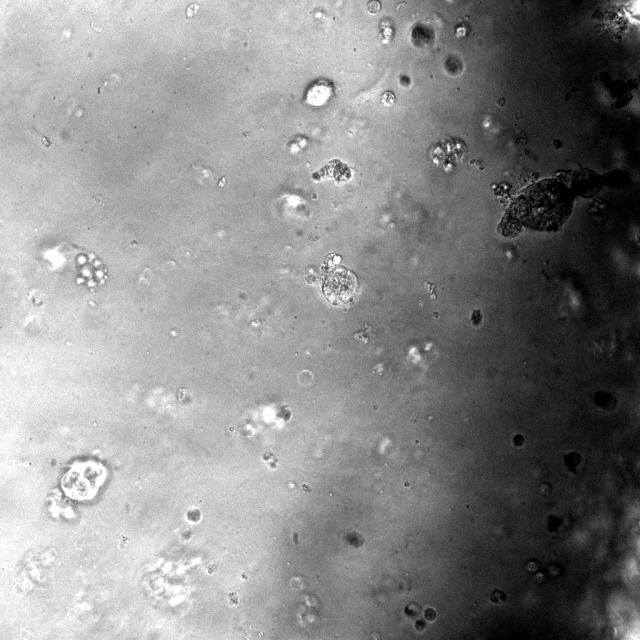organoid: (494, 168, 602, 237), (48, 457, 107, 519), (304, 252, 358, 307), (431, 137, 466, 172), (75, 252, 108, 289), (402, 600, 437, 632), (311, 158, 352, 185), (305, 78, 335, 107), (409, 21, 436, 49), (444, 53, 464, 76), (592, 390, 614, 410), (378, 17, 394, 43), (564, 451, 581, 474), (547, 514, 564, 532), (381, 90, 395, 106), (187, 507, 201, 523), (367, 0, 381, 15), (471, 309, 483, 326), (512, 433, 524, 448), (399, 74, 410, 87), (528, 172, 539, 182), (553, 138, 562, 149)
